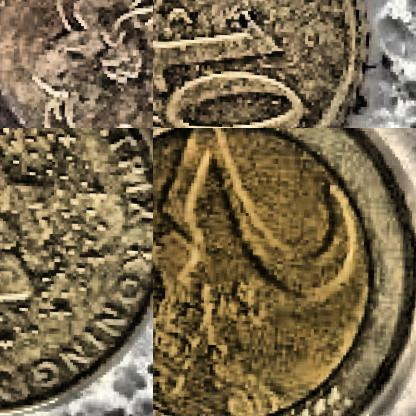coin: (153, 128, 415, 415), (0, 128, 152, 415), (153, 0, 369, 127), (0, 0, 152, 127)
